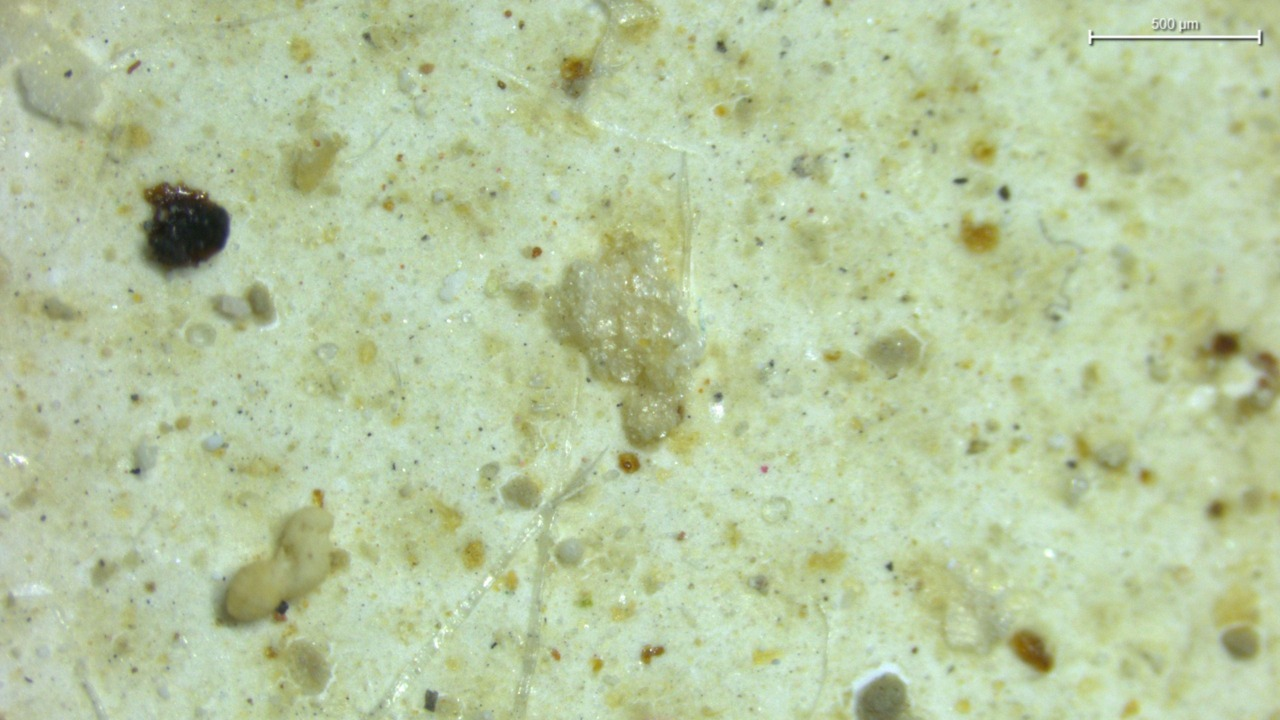microplastic_fragment: (542, 232, 703, 445), (225, 506, 339, 622)
